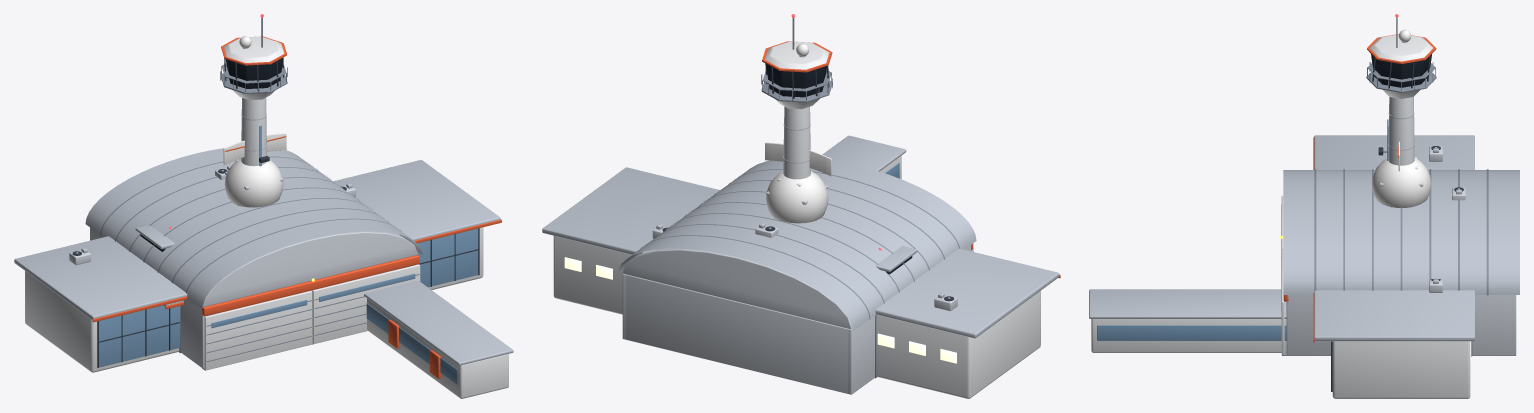
The model's file is airport_buildings.glb.
3 renders of one model, left to right at view 1: azimuth 30°, elevation 25°; view 2: azimuth 150°, elevation 25°; view 3: azimuth 270°, elevation 25°, orthographic. The views are drawn at different scales.
Visible parts, largest first — view 1: hangar_a_body, terminal_main_body, terminal_pier_body, hangar_a_door_right, tower_main_body, hangar_a_door_left, radar_weather_body, radar_asr_antenna, fire_station_body; view 2: hangar_a_body, terminal_main_body, tower_main_body, radar_weather_body, terminal_pier_body, radar_asr_antenna, fire_station_body; view 3: hangar_a_body, terminal_main_body, terminal_pier_body, tower_main_body, radar_weather_body.
Part boxes in pixels (box(x1,y1,x2,y2)): hangar_a_body: box(85, 148, 422, 370); terminal_main_body: box(14, 160, 501, 372); terminal_pier_body: box(163, 269, 513, 398); hangar_a_door_right: box(204, 290, 312, 370); tower_main_body: box(220, 17, 287, 166); hangar_a_door_left: box(312, 264, 420, 343); radar_weather_body: box(224, 158, 283, 207); radar_asr_antenna: box(223, 133, 286, 164); fire_station_body: box(135, 224, 174, 251); hangar_a_body: box(618, 160, 976, 394); terminal_main_body: box(542, 167, 1060, 398); tower_main_body: box(761, 17, 832, 179); radar_weather_body: box(766, 171, 828, 223); terminal_pier_body: box(822, 135, 906, 179); radar_asr_antenna: box(765, 142, 831, 176); fire_station_body: box(875, 246, 917, 274); hangar_a_body: box(1282, 169, 1519, 356); terminal_main_body: box(1313, 135, 1474, 398); terminal_pier_body: box(1089, 289, 1286, 352); tower_main_body: box(1366, 17, 1436, 165); radar_weather_body: box(1371, 158, 1431, 207).
Size of the model in its own units: 41.7 by 28.01 by 37.5.
